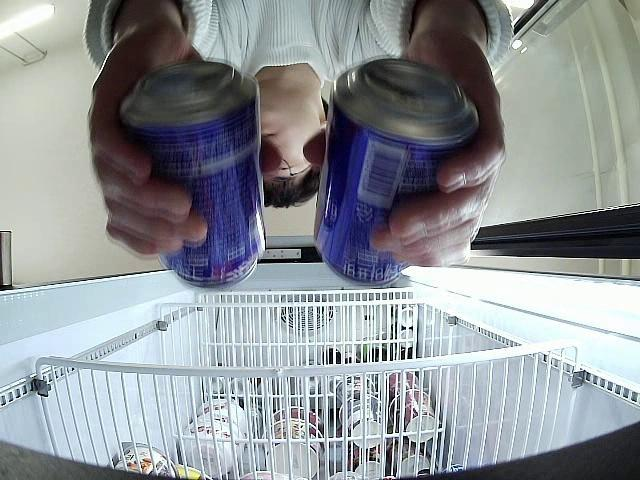14_welchsGrape: (314, 60, 478, 284), (118, 58, 264, 288)
